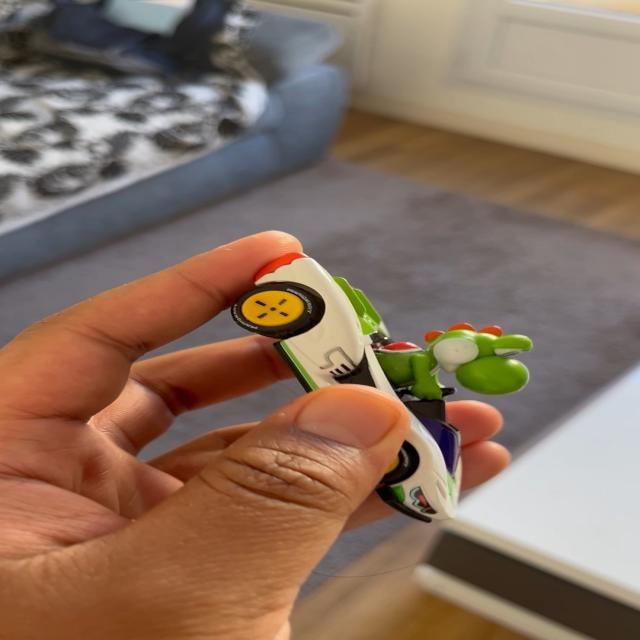yoshi: (219, 245, 551, 536)
